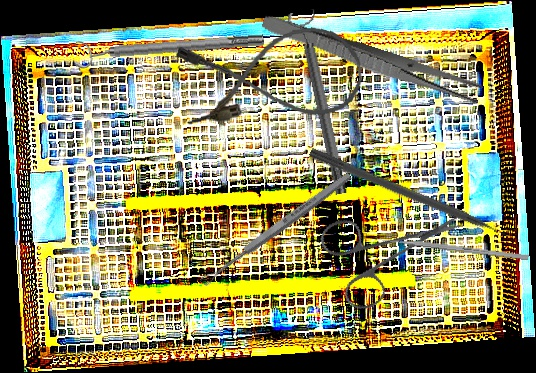Cannula: (174, 22, 367, 130)
Dressing Forceps: (258, 12, 485, 107)
Fixation Ring: (285, 7, 356, 198), (74, 26, 265, 70)
Iris Scissors: (300, 170, 466, 334)
Pusher: (307, 146, 523, 249), (374, 235, 529, 261)
Surgical Spoon: (198, 170, 354, 288)
